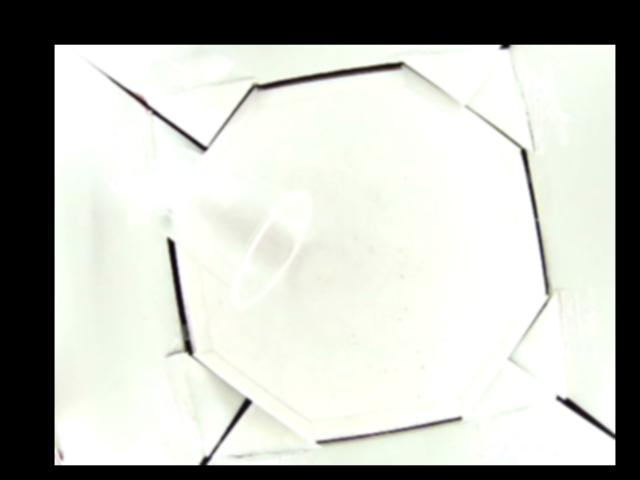Cup: (131, 147, 311, 303)
